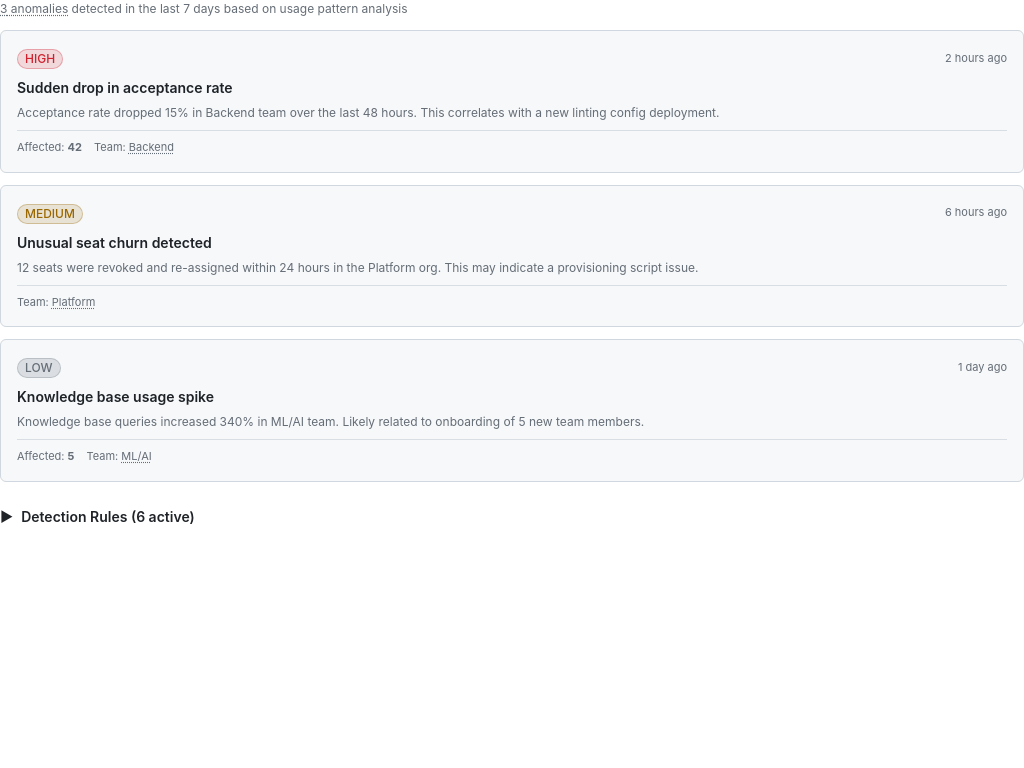
AnomaliesPane clickable stats › closes team modal via close button
Click the button "Backend" at (151, 147), box x1=129 y1=140 x2=174 y2=154
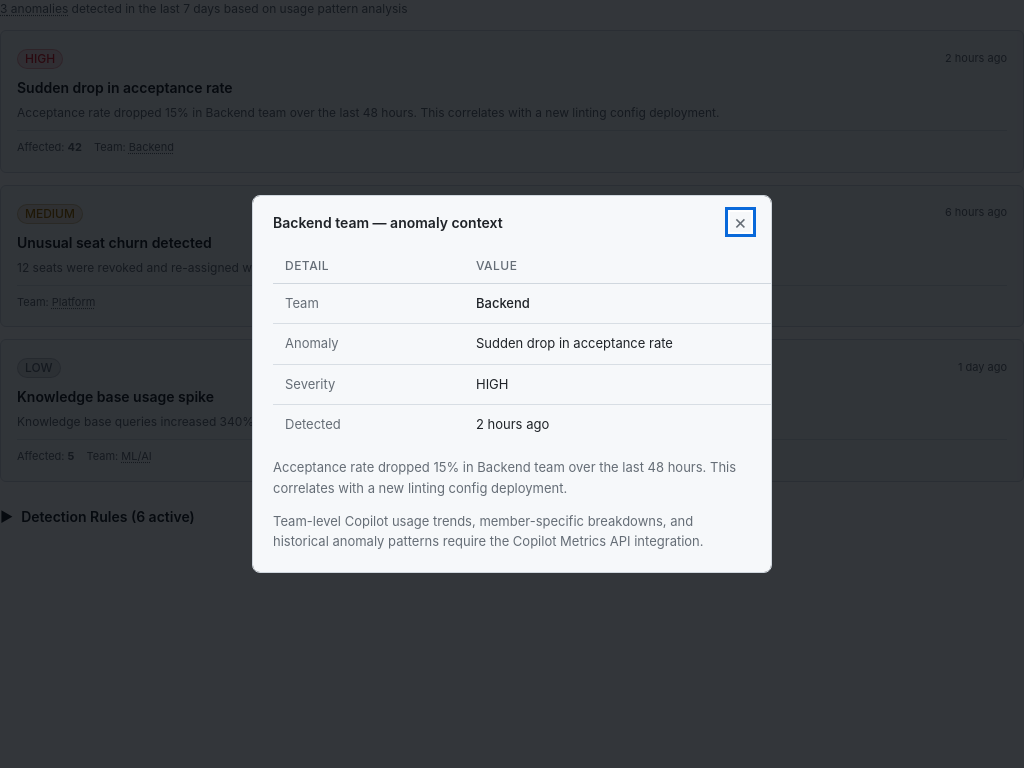
Now the text "Backend team — anomaly context" is shown, box x1=273 y1=212 x2=503 y2=233
Click the button named "close" at (740, 222), box x1=730 y1=212 x2=751 y2=232
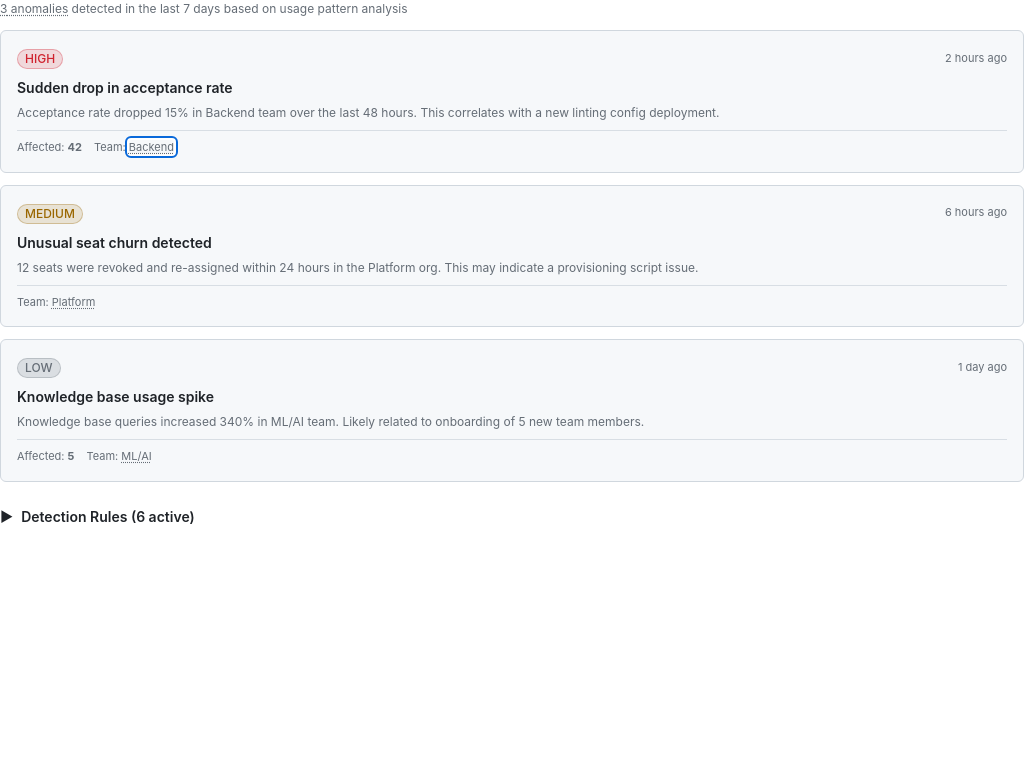
Now the text "Backend team — anomaly context" is gone
